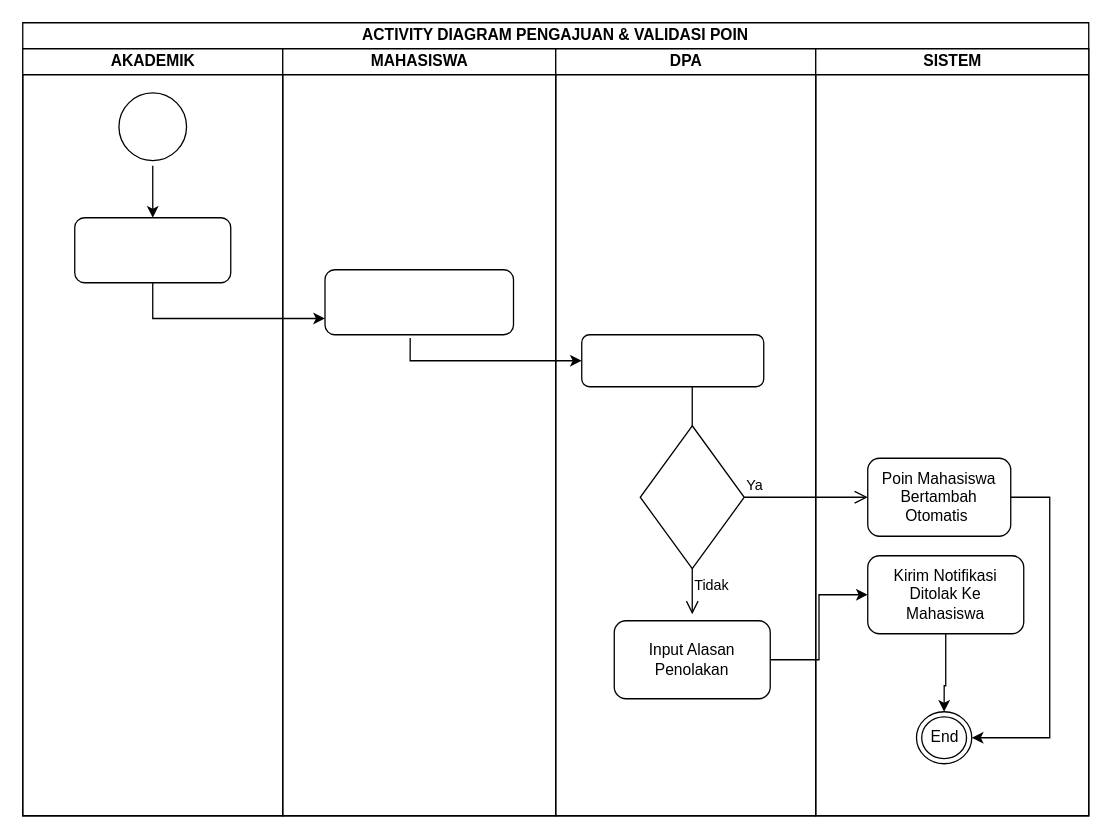
Some shapes in this 1112 by 838 pixel diagram are drawn without their labels. Each missing label, with the centre of its shape:
"Dokumen Valid?" belongs at (x=691, y=496).
"Memeriksa Dokumen Pengajuan" belongs at (x=672, y=360).
"Mengisi Form Pengajuan & Upload Bukti Sertifikat Atau Kegiatan" belongs at (x=419, y=301).
"Plotting DPA & Kelola Kategori Kegiatan" belongs at (x=152, y=249).
"Start" belongs at (x=152, y=126).
